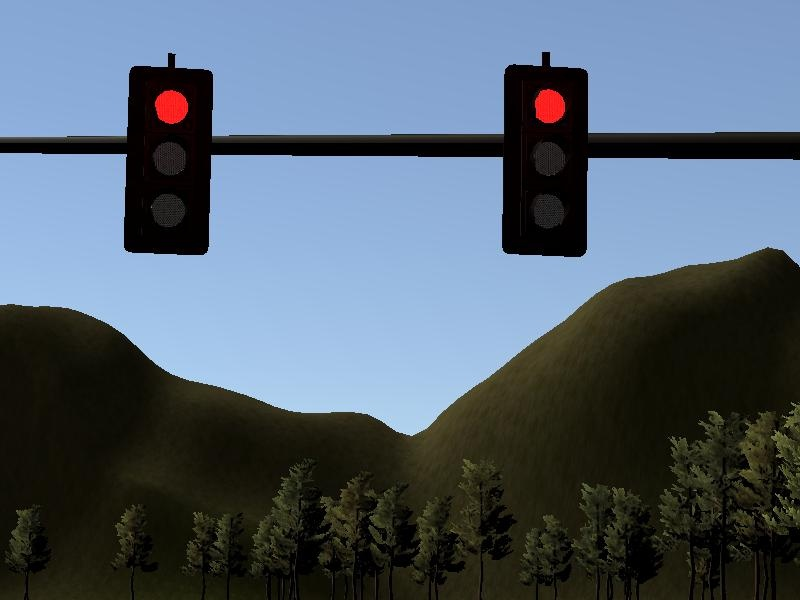red: (499, 55, 590, 259), (122, 61, 214, 257)
